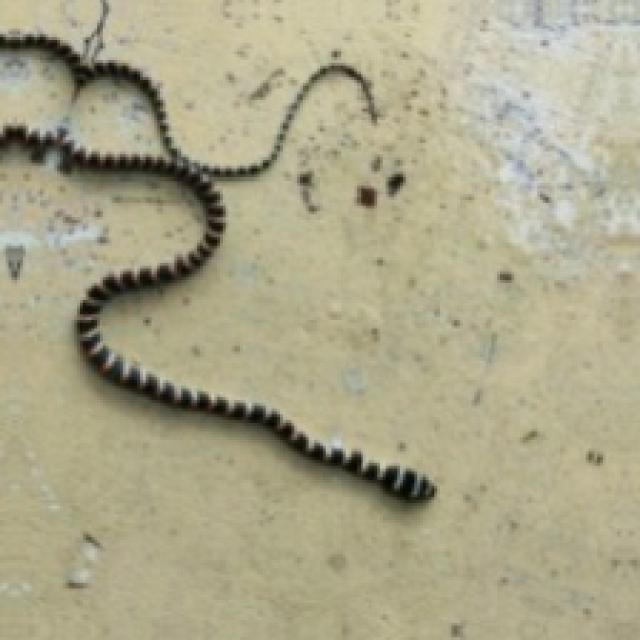paradise tree snake: (0, 34, 434, 497)
